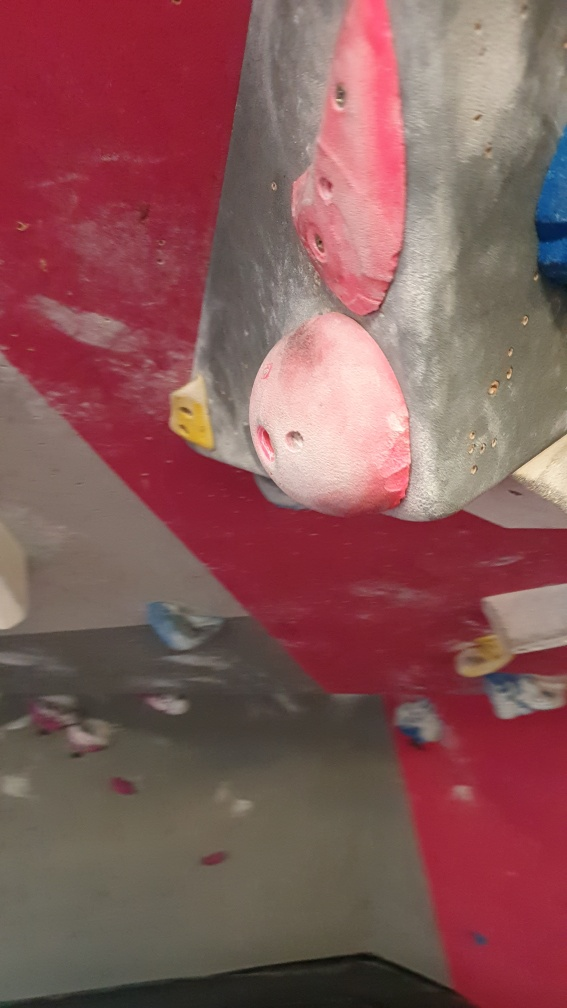Crimp: (163, 377, 219, 456)
Jug: (151, 600, 227, 657)
Pinch: (476, 579, 567, 654)
Sloper: (245, 312, 414, 523)
